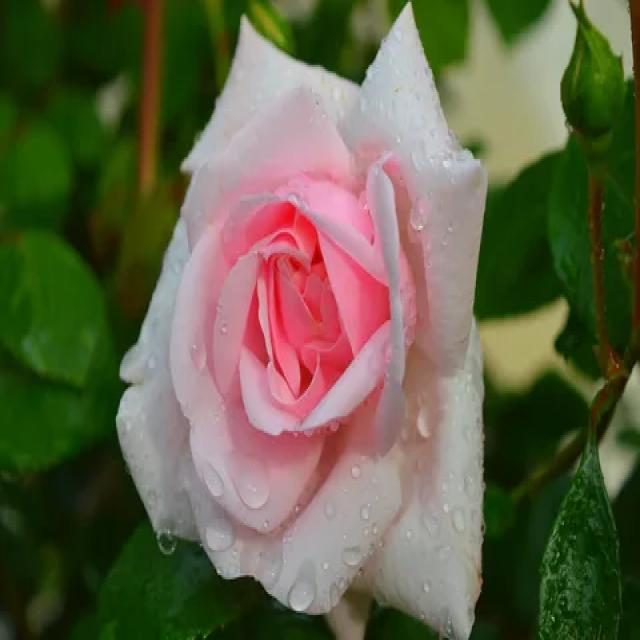rose: (109, 0, 505, 640)
